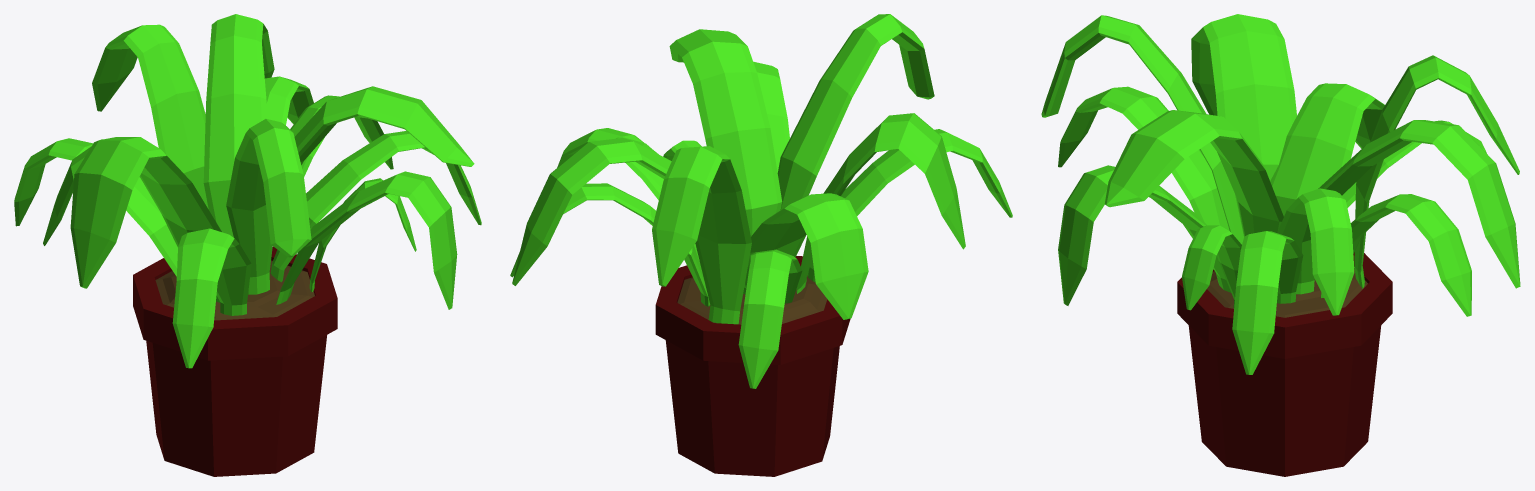
The model's file is GaryThePottedPlant.fbx.
3 renders of one model, left to right at view 1: azimuth 30°, elevation 25°; view 2: azimuth 150°, elevation 25°; view 3: azimuth 270°, elevation 25°, orthographic. The views are drawn at different scales.
Visible parts, largest first — view 1: Leaves, Pot, Dirt; view 2: Leaves, Pot, Dirt; view 3: Leaves, Pot, Dirt.
Boxes of the visible parts, x1=… form: Leaves: x1=14, y1=14, x2=481, y2=368; Pot: x1=133, y1=246, x2=337, y2=476; Dirt: x1=155, y1=260, x2=314, y2=320; Leaves: x1=510, y1=14, x2=1012, y2=388; Pot: x1=655, y1=256, x2=850, y2=476; Dirt: x1=677, y1=275, x2=827, y2=324; Leaves: x1=1041, y1=14, x2=1520, y2=374; Pot: x1=1177, y1=252, x2=1392, y2=476; Dirt: x1=1207, y1=270, x2=1367, y2=317.
Bounding box in the file's own units: 370 × 336 × 363.
